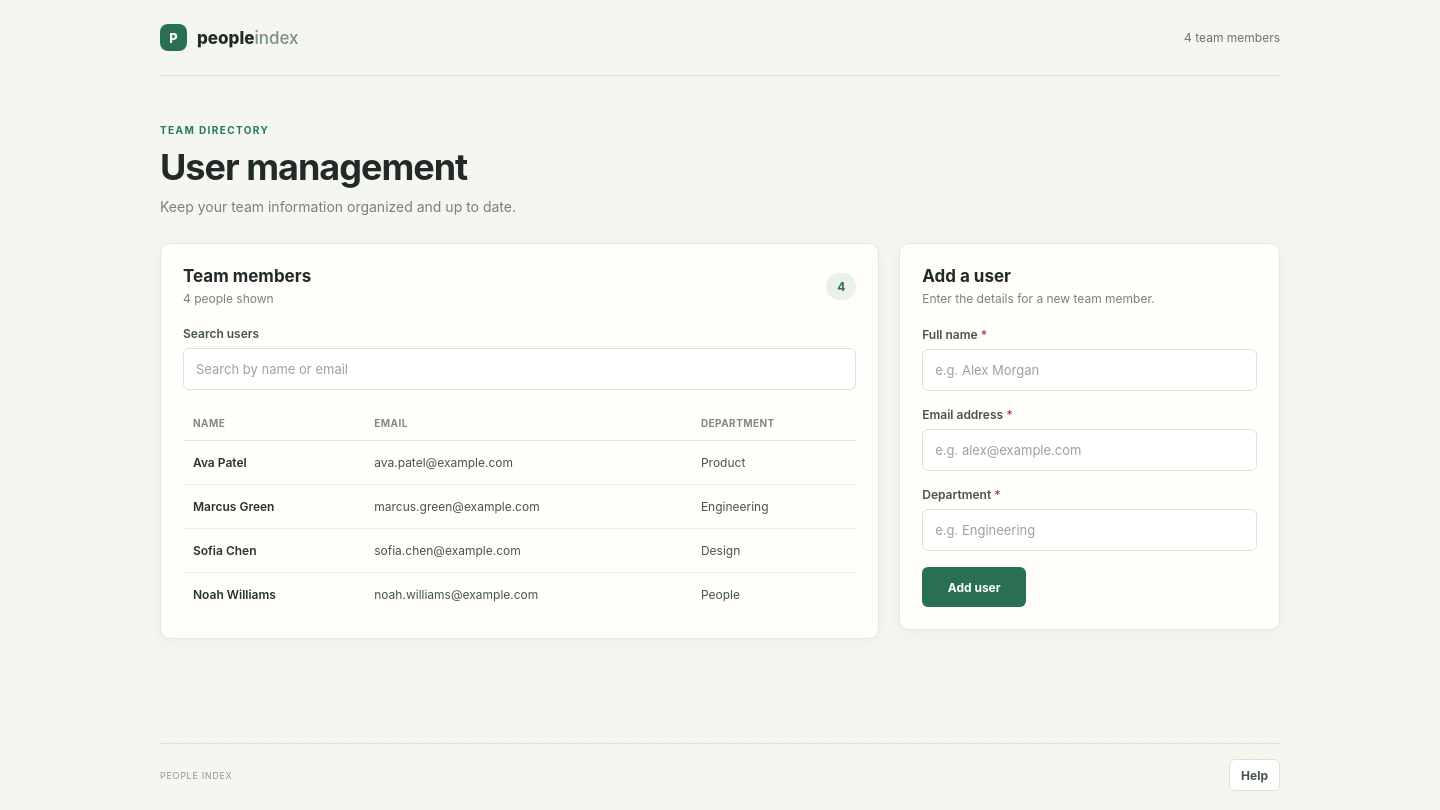
Test: user management › shows required-field validation messages
This screenshot has width=1440, height=810.
Step 1. Click the button "Add user" → (974, 587), box top-left (922, 567), bottom-right (1026, 607)
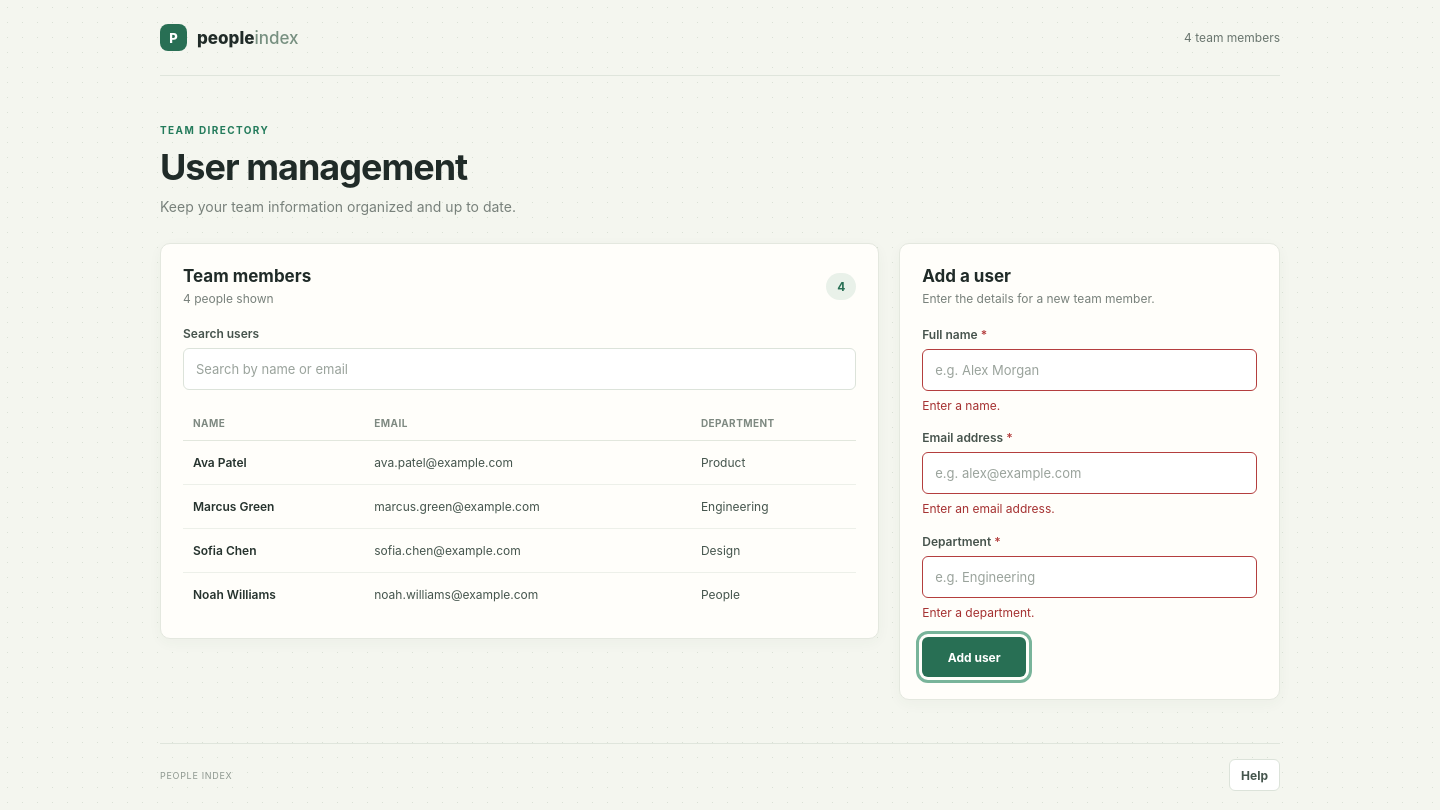
Expected: the text "Enter a name." is shown, top-left (922, 398), bottom-right (1000, 413)
Expected: the text "Enter an email address." is shown, top-left (922, 501), bottom-right (1055, 516)
Expected: the text "Enter a department." is shown, top-left (922, 605), bottom-right (1034, 620)
